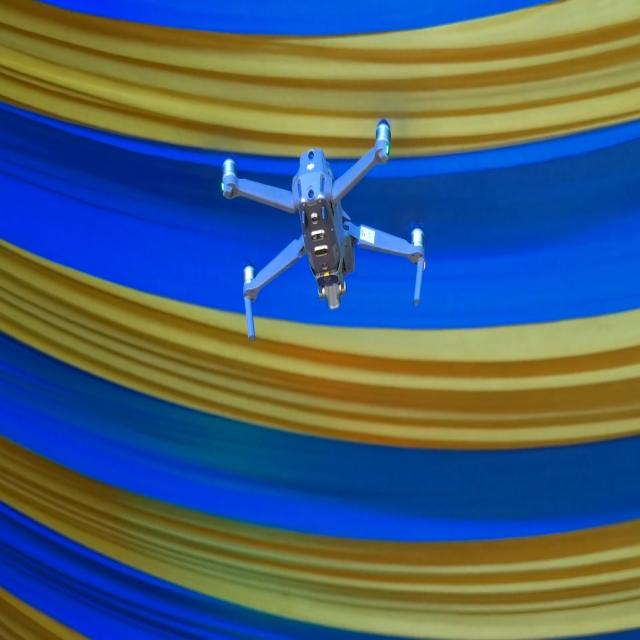Drone: (222, 121, 426, 340)
